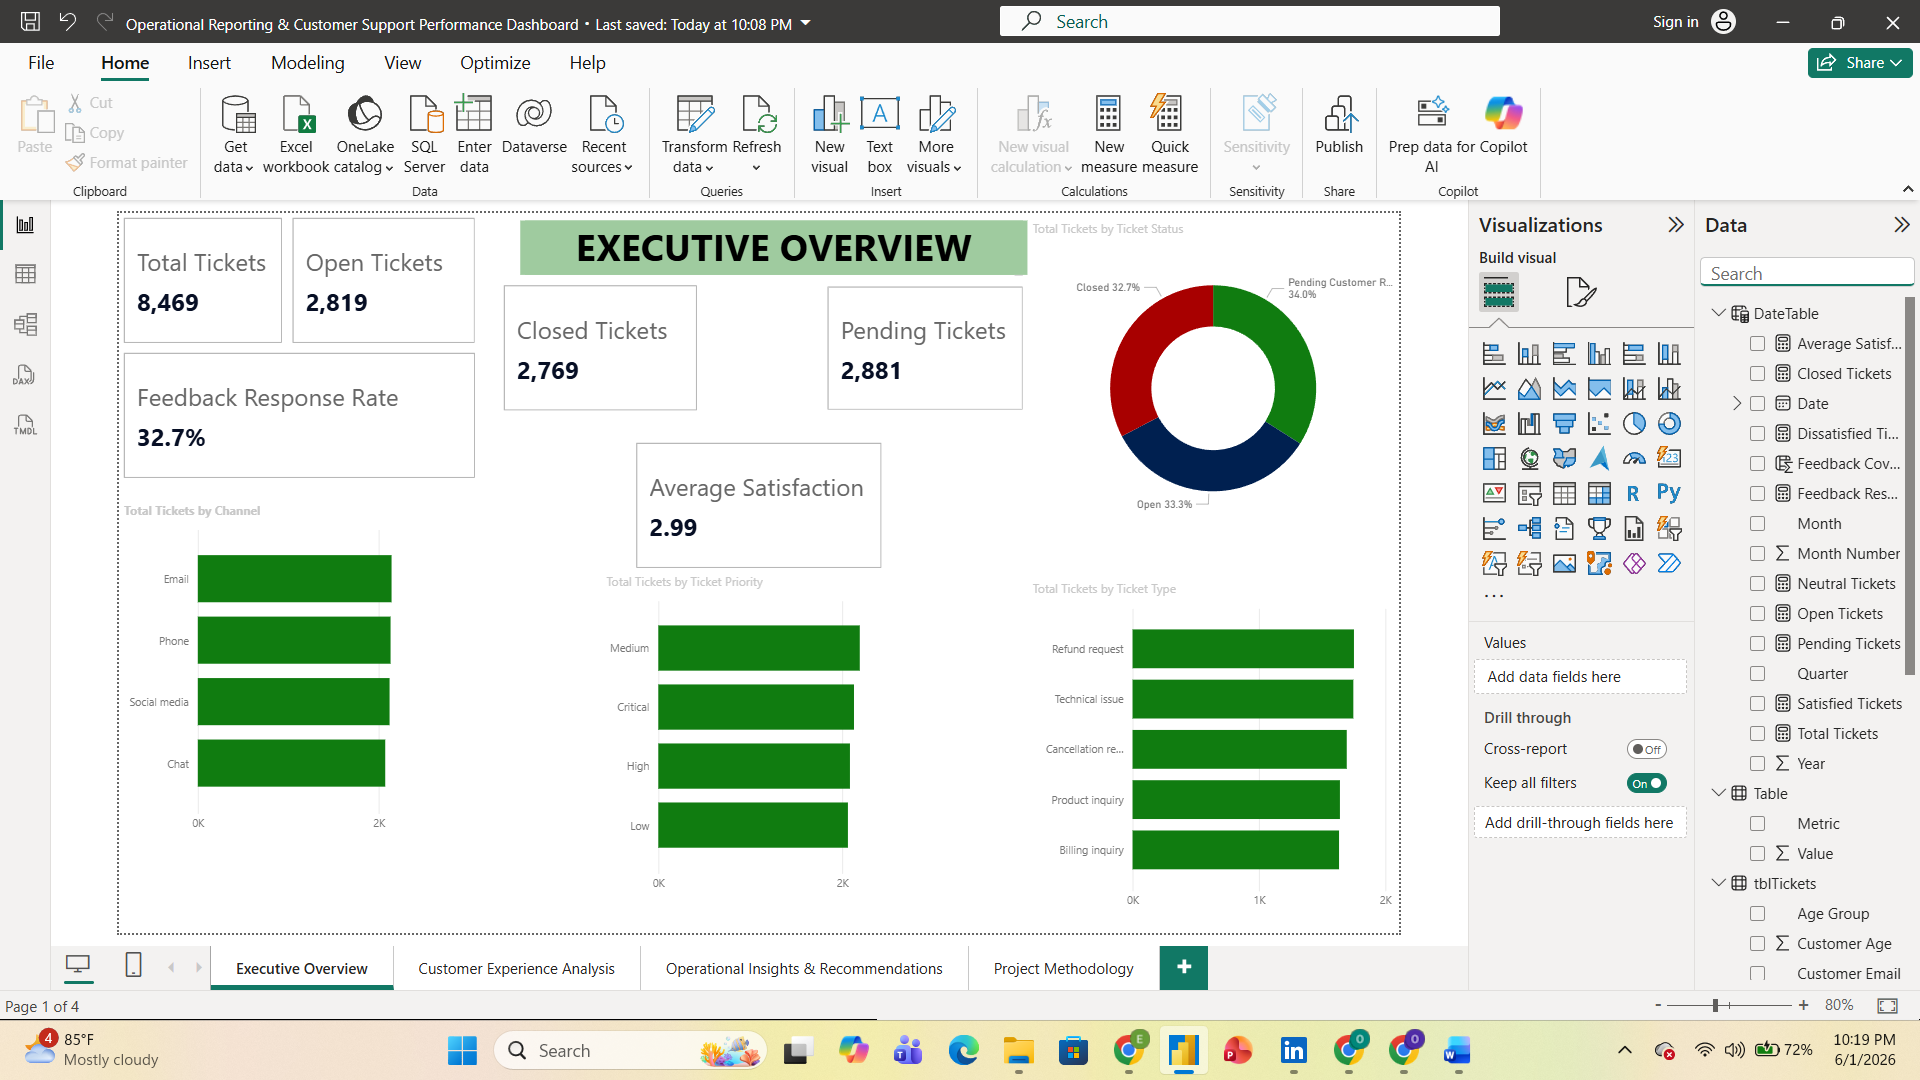

This screenshot's page, from the dashboard's own definition file:
{"tool":"powerbi","page":{"name":"Executive Overview","canvas":[1280,720],"ordinal":0},"visuals":[{"type":"cardVisual","fields":{"Data":["DateTable.Total Tickets"]},"box":[0,0,168.8,135],"z":0},{"type":"cardVisual","fields":{"Data":["DateTable.Closed Tickets"]},"box":[380,67.5,203.8,135],"z":1000},{"type":"cardVisual","fields":{"Data":["DateTable.Open Tickets"]},"box":[168.8,0,192.5,135],"z":2000},{"type":"cardVisual","fields":{"Data":["DateTable.Pending Tickets"]},"box":[703.8,68.8,205,133.8],"z":3000},{"type":"cardVisual","fields":{"Data":["DateTable.Closed Rate %"]},"box":[0,135,361.2,135],"z":4000},{"type":"cardVisual","fields":{"Data":["DateTable.Average Satisfaction"]},"box":[512.5,225,255,135],"z":5000},{"type":"barChart","fields":{"Y":["DateTable.Total Tickets"],"Category":["tblTickets.Ticket Priority"]},"box":[482.5,360,343.8,327.5],"z":6000},{"type":"barChart","fields":{"Category":["tblTickets.Ticket Type"],"Y":["DateTable.Total Tickets"]},"box":[908.8,367.5,368.8,337.5],"z":7000},{"type":"barChart","title":"Total Tickets by Channel","fields":{"Category":["tblTickets.Ticket Channel"],"Y":["DateTable.Total Tickets"]},"box":[0,288.8,361.2,338.8],"z":8000},{"type":"donutChart","fields":{"Category":["tblTickets.Ticket Status"],"Y":["DateTable.Total Tickets"]},"box":[908.8,7.5,371.2,320],"z":9000},{"type":"textbox","title":"EXECUTIVE OVERVIEW","box":[401.2,7.5,507.5,60],"z":10000}]}

Visuals, with their boxes on the page's 1280x720 design canvas (x1, y1, x2, y2). These are canvas units, not pixel positions in the 1920x1080 screenshot, which may show the page scaled, cropped or inside an application window:
cardVisual - DateTable.Total Tickets: BBox(0, 0, 169, 135)
cardVisual - DateTable.Closed Tickets: BBox(380, 68, 584, 202)
cardVisual - DateTable.Open Tickets: BBox(169, 0, 361, 135)
cardVisual - DateTable.Pending Tickets: BBox(704, 69, 909, 203)
cardVisual - DateTable.Closed Rate %: BBox(0, 135, 361, 270)
cardVisual - DateTable.Average Satisfaction: BBox(512, 225, 768, 360)
barChart - DateTable.Total Tickets x tblTickets.Ticket Priority: BBox(482, 360, 826, 688)
barChart - tblTickets.Ticket Type x DateTable.Total Tickets: BBox(909, 368, 1278, 705)
"Total Tickets by Channel" barChart: BBox(0, 289, 361, 628)
donutChart - tblTickets.Ticket Status x DateTable.Total Tickets: BBox(909, 8, 1280, 328)
"EXECUTIVE OVERVIEW" textbox: BBox(401, 8, 909, 68)
